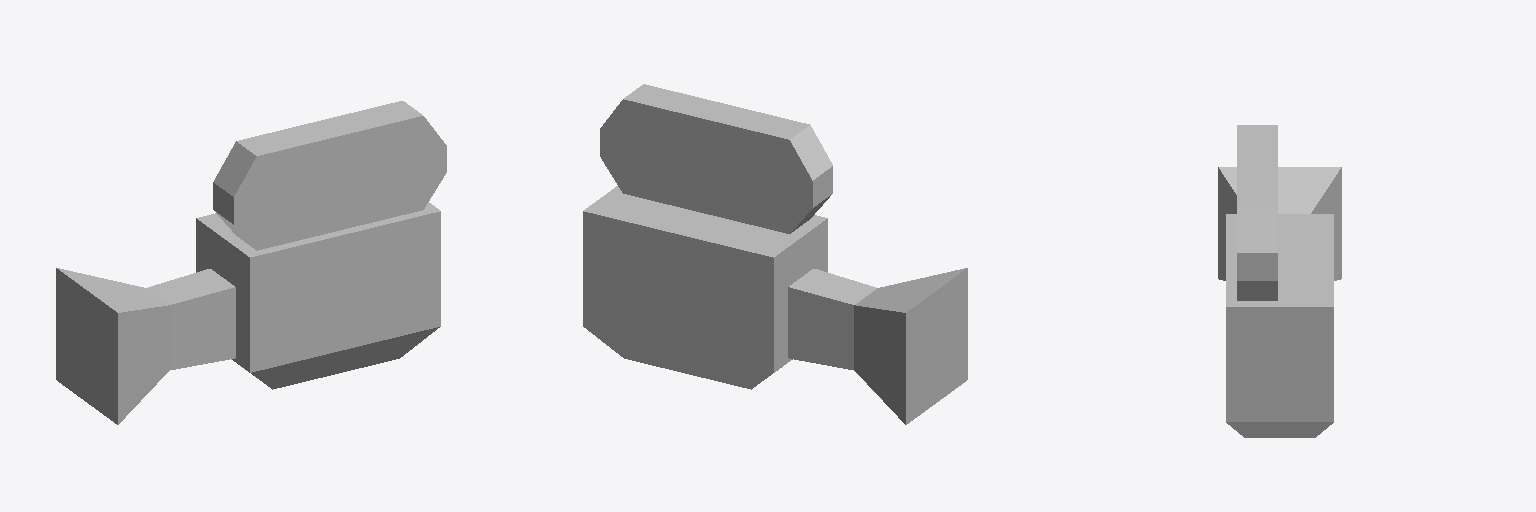
Rendered from camera_icon.obj.
The picture shows the model from 3 angles: view 1: azimuth 30°, elevation 25°; view 2: azimuth 150°, elevation 25°; view 3: azimuth 270°, elevation 25°; orthographic projection.
Visible parts, largest first — view 1: camera; view 2: camera; view 3: camera.
Boxes of the visible parts, <box> form: camera: <box>56,101,446,424</box>; camera: <box>583,84,967,424</box>; camera: <box>1218,125,1341,437</box>.
Size of the model in its own units: 2.34 by 1.6 by 0.7448.